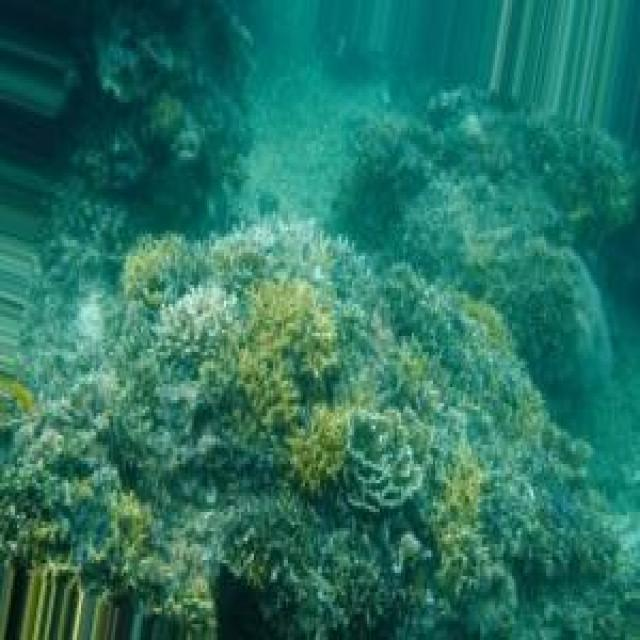healthy coral: (238, 283, 349, 496), (432, 444, 485, 599), (114, 471, 151, 580), (122, 237, 185, 293)
